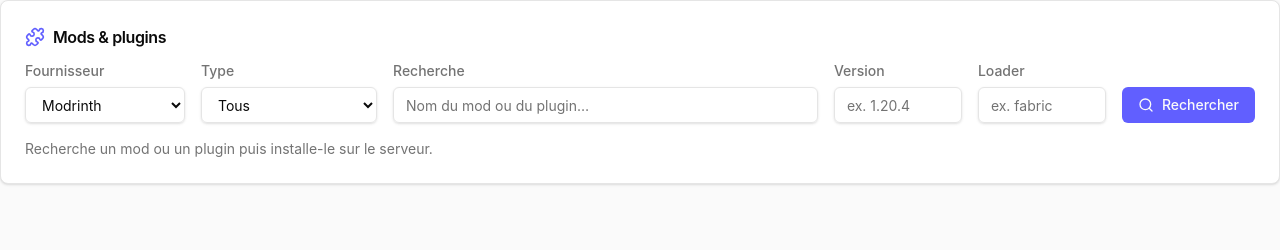
Test: ModSearch › searches the provider and lists results
The width and height of the screenshot is (1280, 250).
Type "sodium" into the field labelled "Recherche" at (605, 105), box [393, 87, 818, 123]
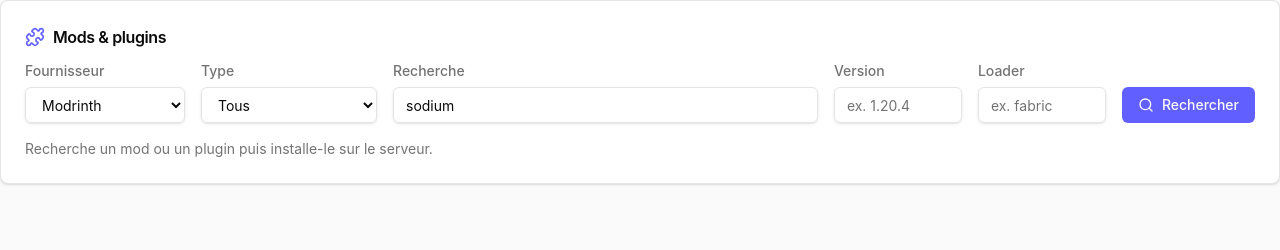
Click the button "Rechercher" at (1188, 105), box [1122, 87, 1255, 123]
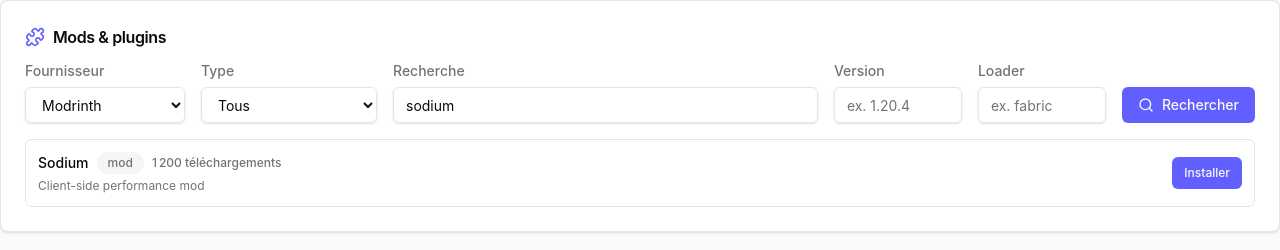
Expected: the text "Sodium" is shown, [38, 154, 88, 171]
Expected: the text "1 200 téléchargements" is shown, [152, 155, 281, 171]
